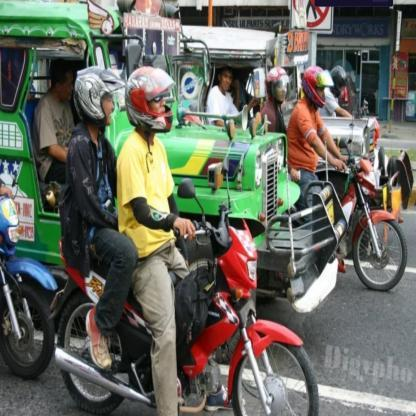helmet: (125, 66, 174, 134), (73, 67, 126, 126), (301, 65, 334, 109), (264, 65, 289, 103), (329, 65, 347, 98)
